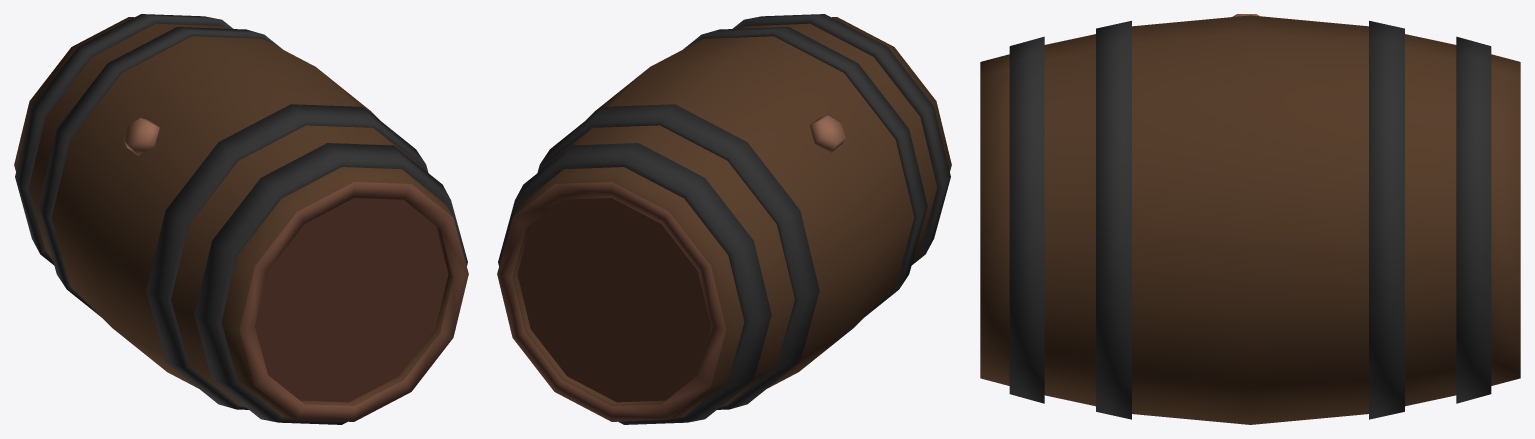
File: Barrel 1.glb
The picture shows the model from 3 angles, left to right: view 1: azimuth 30°, elevation 25°; view 2: azimuth 150°, elevation 25°; view 3: azimuth 270°, elevation 25°; orthographic projection. The views are drawn at different scales.
Visible parts, largest first — view 1: Barrel1; view 2: Barrel1; view 3: Barrel1.
Boxes of the visible parts, x1,y1,x2,y2 form: Barrel1: (14,14,468,424); Barrel1: (497,14,951,424); Barrel1: (980,14,1520,424).
Size of what is drawn, in the model's own units: 0.725 by 0.725 by 0.9529.
1 material, 1 textured.
